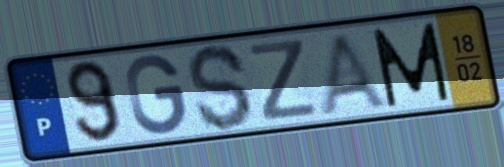9: (64, 57, 124, 149)
A: (316, 30, 393, 116)
G: (123, 51, 189, 138)
M: (368, 19, 453, 111)
S: (185, 42, 257, 134)
Z: (245, 36, 321, 124)
